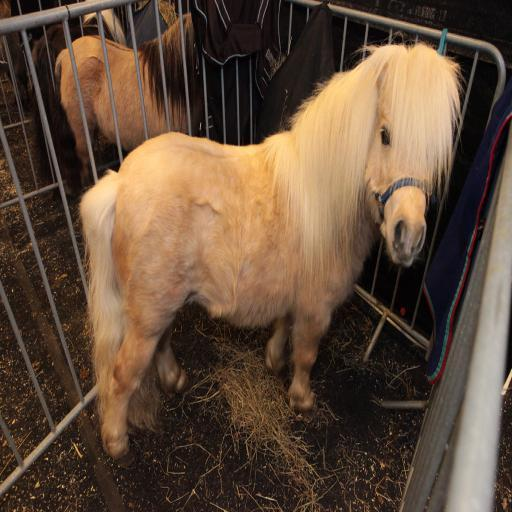horse: (75, 30, 469, 466), (54, 12, 209, 190)
